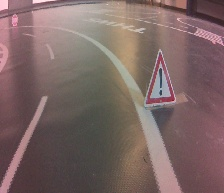warning sign: (143, 46, 178, 108)
